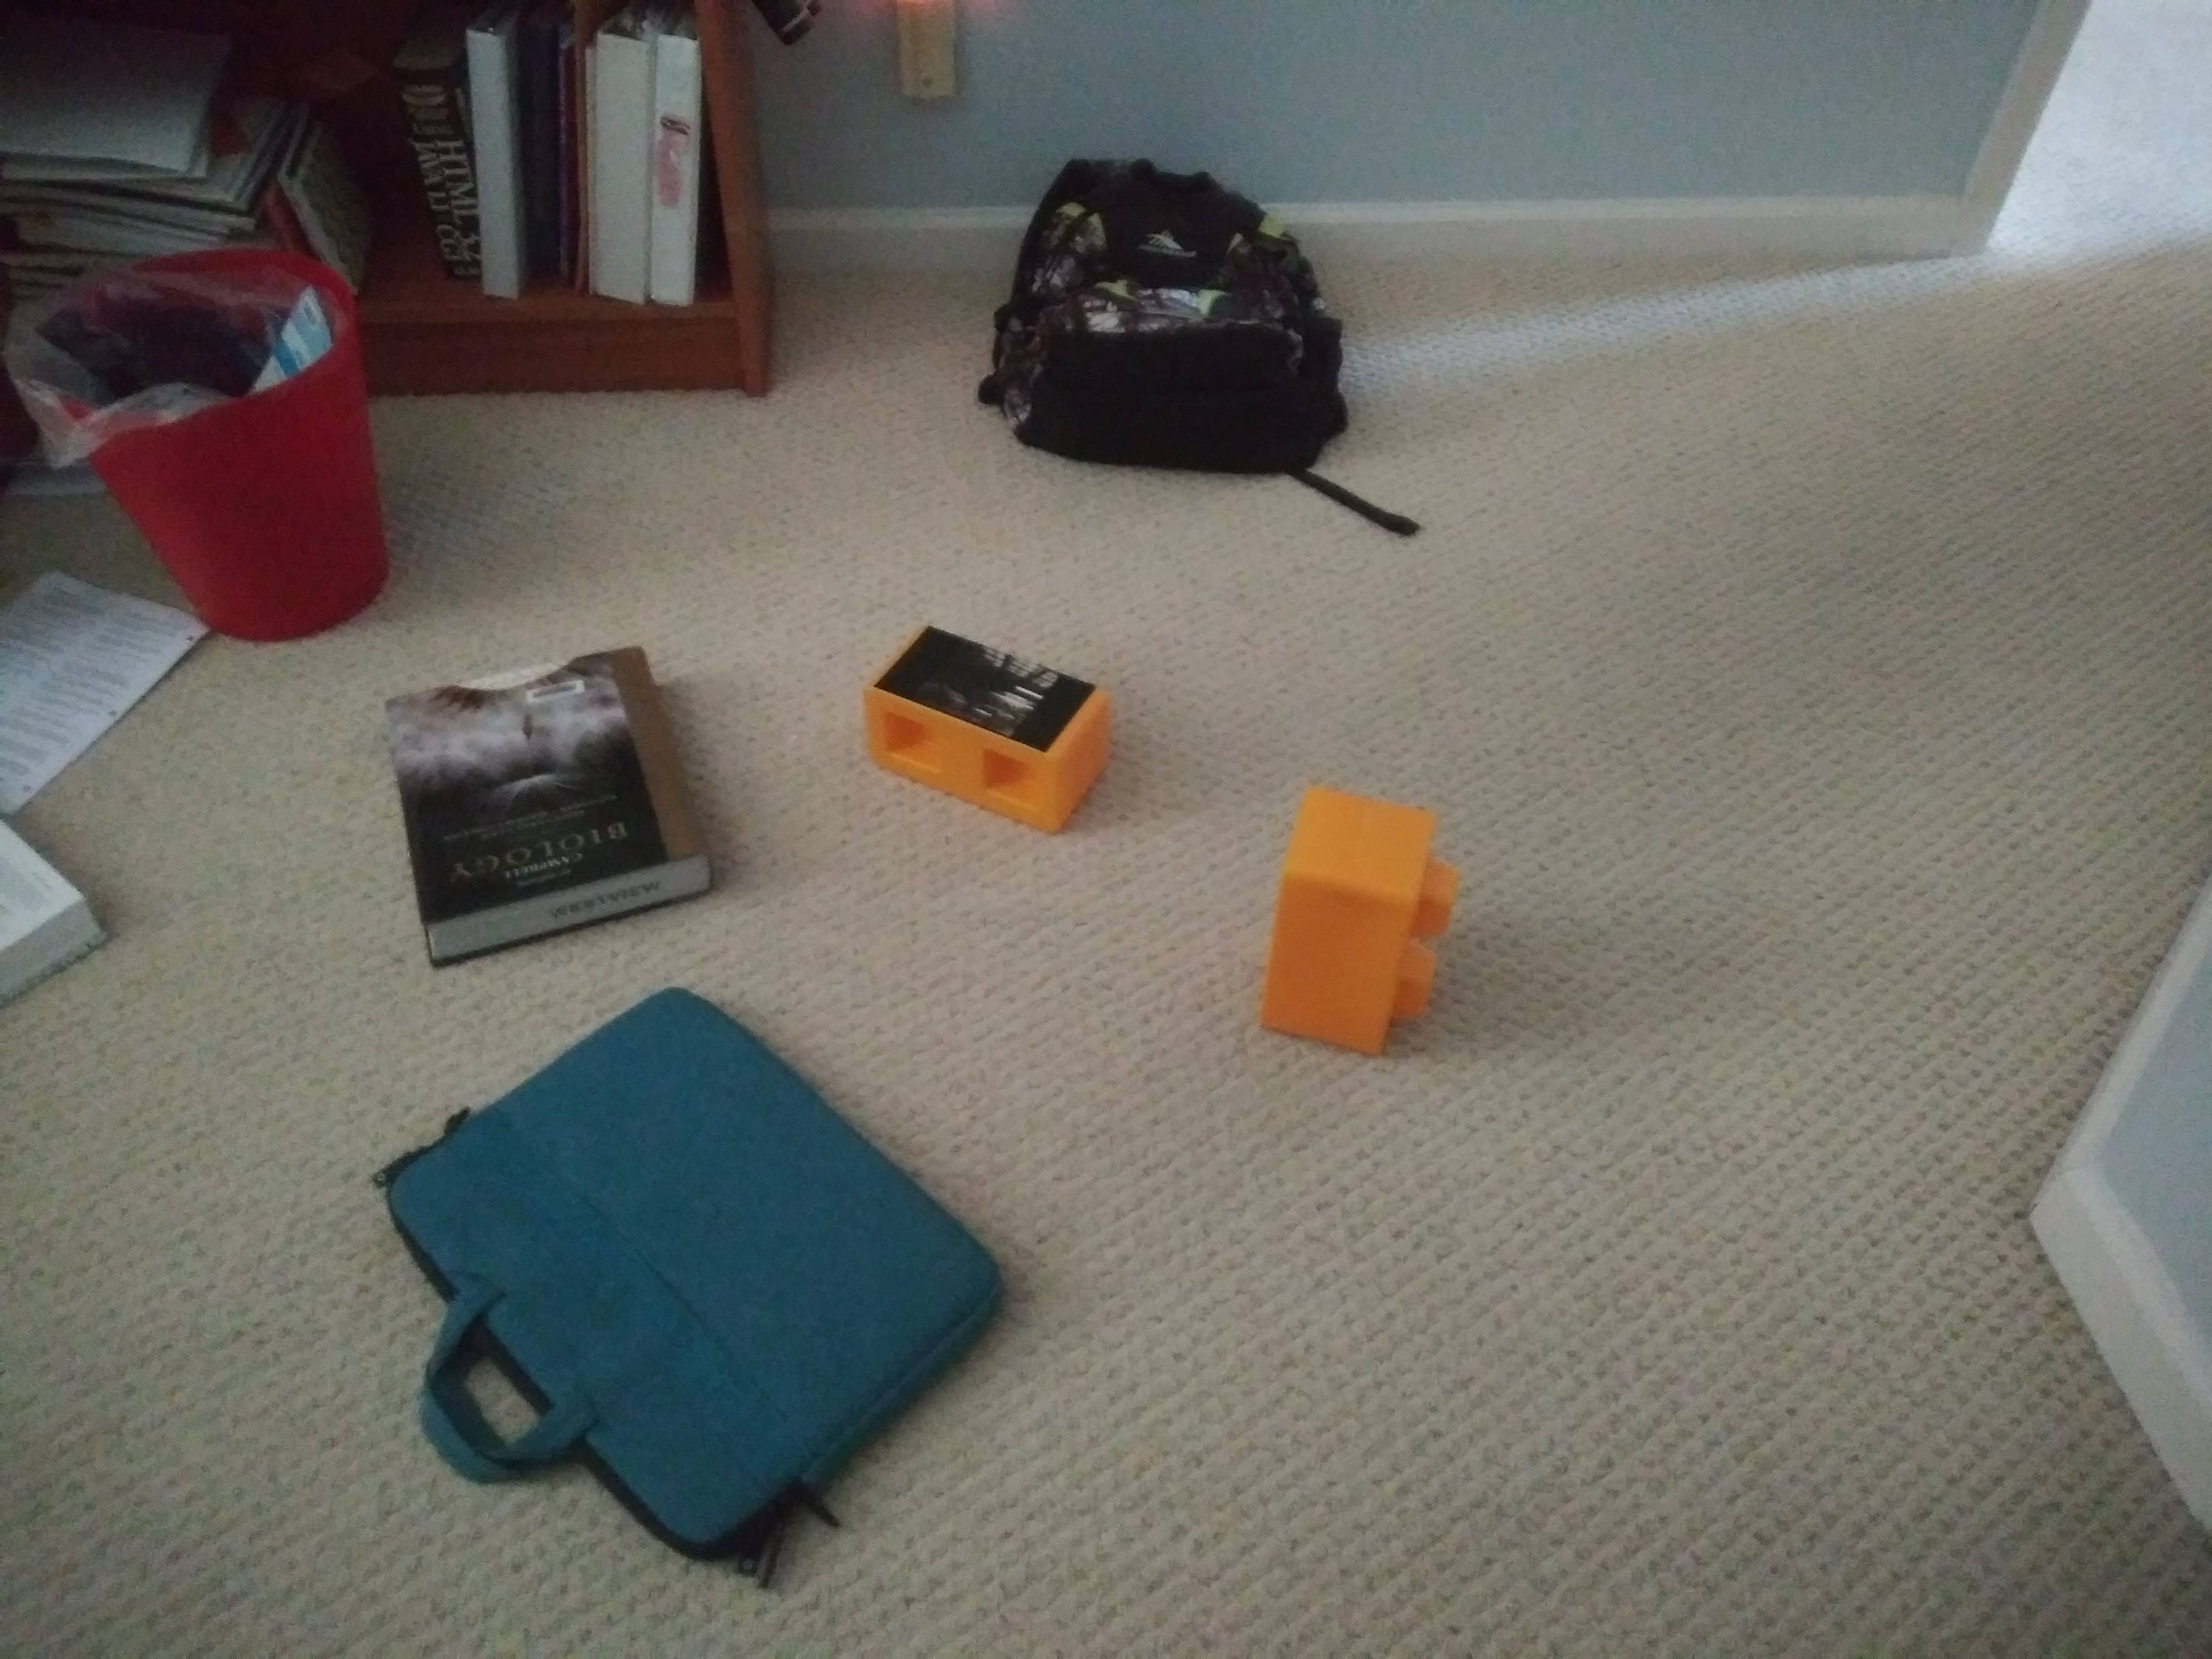skystone: (867, 629, 1109, 824)
stone: (1263, 802, 1442, 1061)
